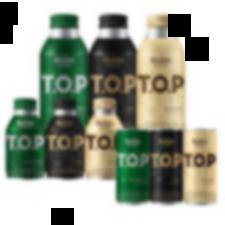TOP_black: (46, 98, 86, 180), (149, 125, 185, 207)
